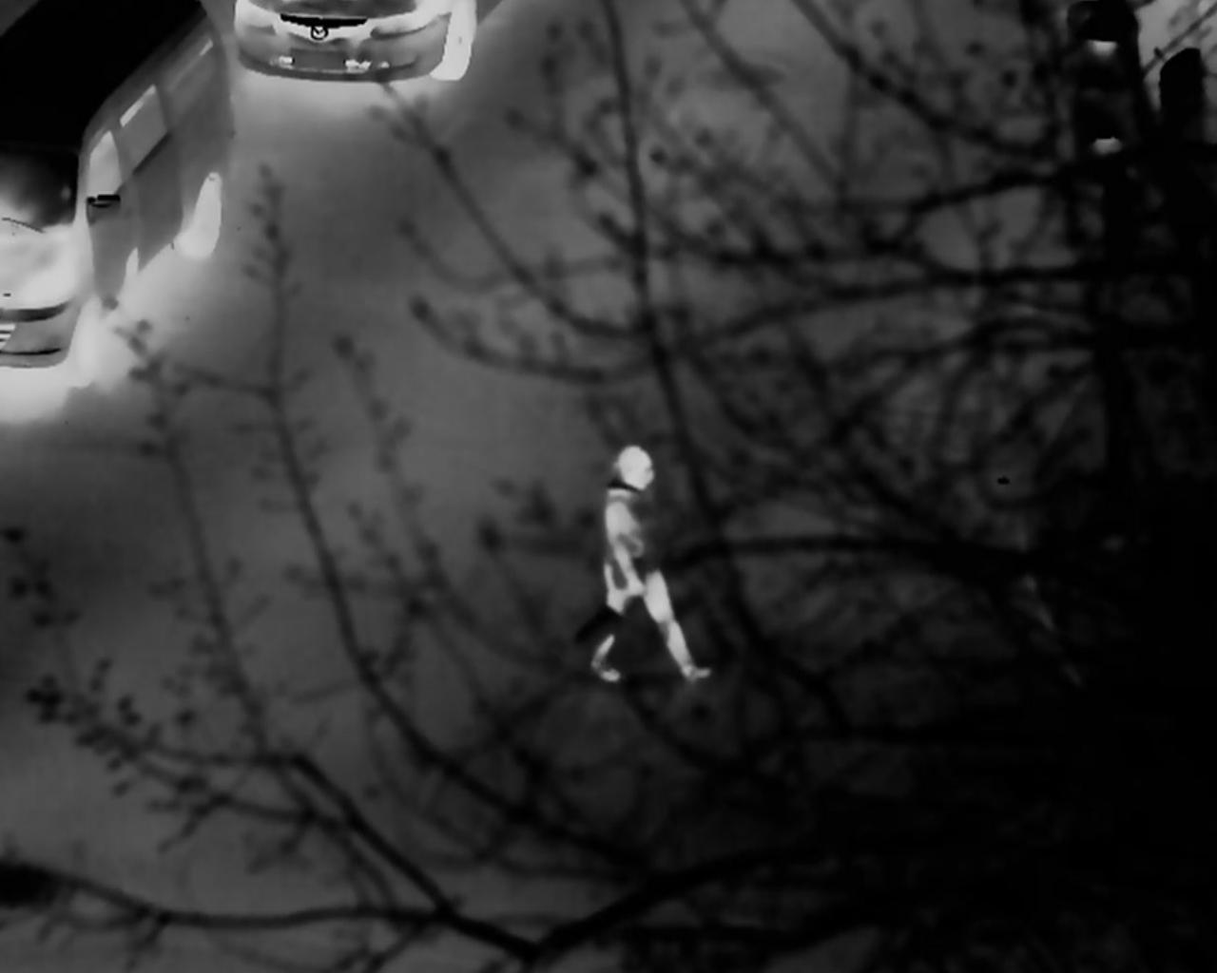person: (596, 449, 714, 696)
